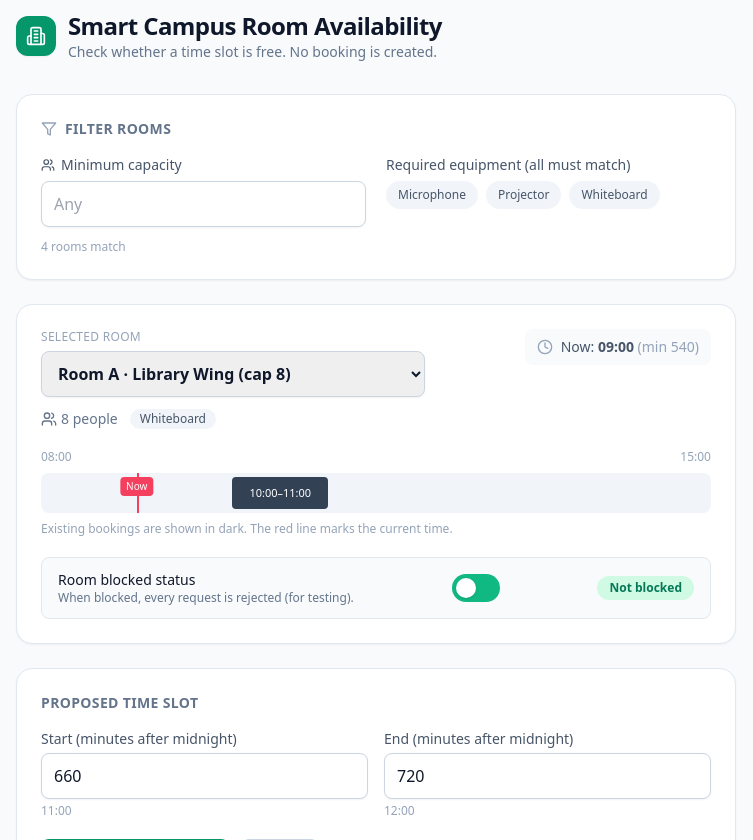
U3 — Per-room blocked status › persists per-room blocked overrides independently without mutating fixtures
Select "Room A · Library Wing (cap 8)" in the dropdown at coordinates (233, 374), box [41, 351, 425, 397]
Click the switch at coordinates (476, 588), box [452, 574, 500, 602]
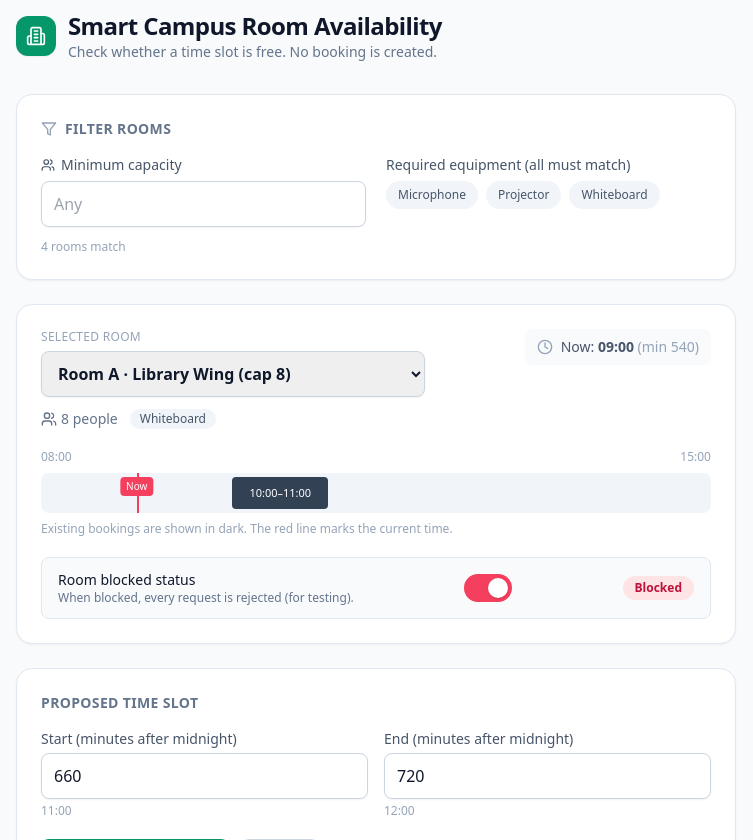
Expected: the text "Blocked" is shown, [622, 576, 694, 600]
Select "Room B · Engineering Lab (cap 24)" in the dropdown at coordinates (233, 374), box [41, 351, 425, 397]
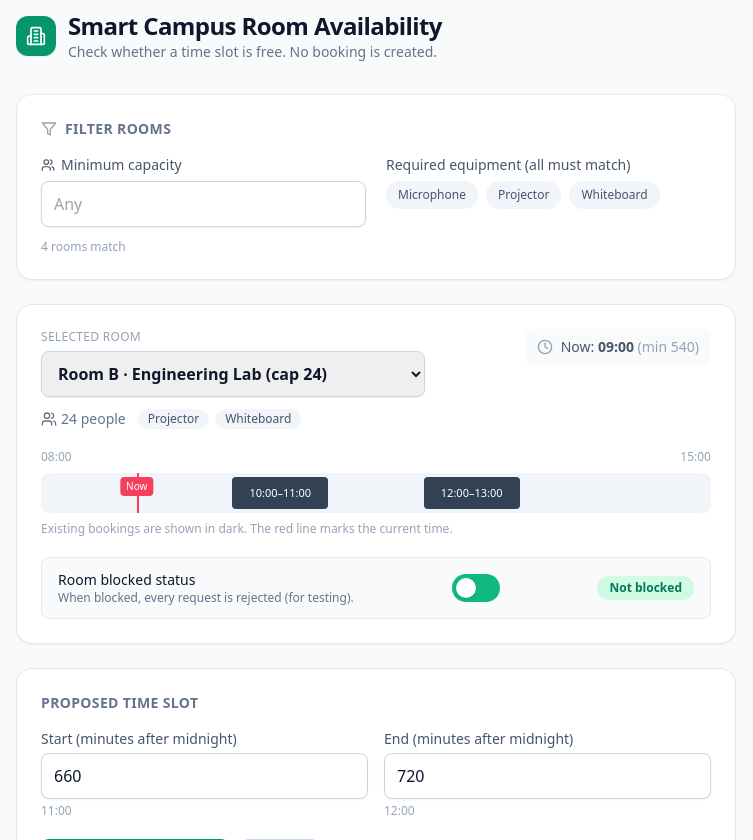
Expected: the text "Not blocked" is shown, [598, 576, 694, 600]
Select "Room A · Library Wing (cap 8)" in the dropdown at coordinates (233, 374), box [41, 351, 425, 397]
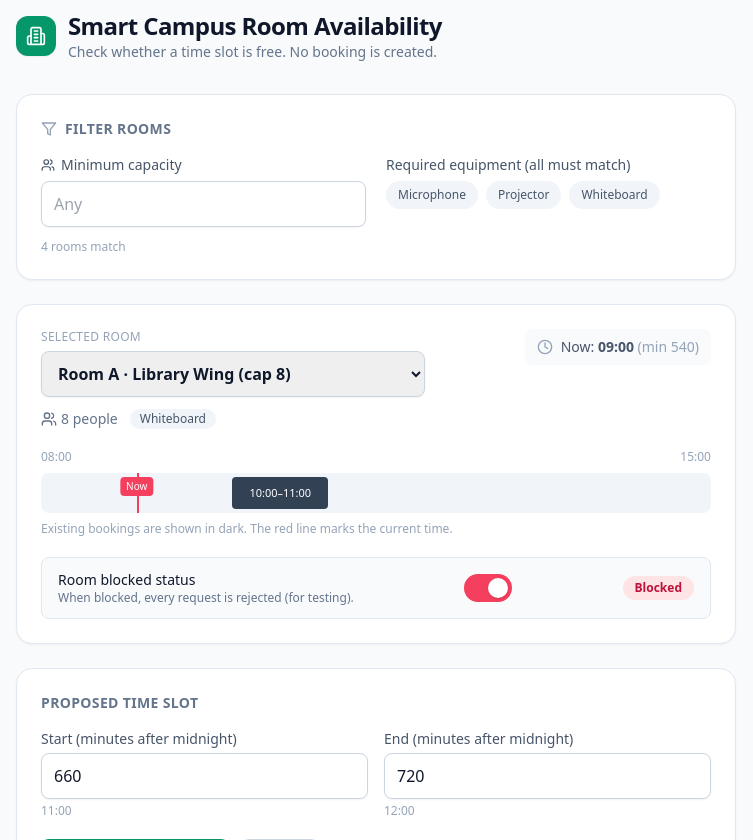
Expected: the text "Blocked" is shown, [622, 576, 694, 600]
